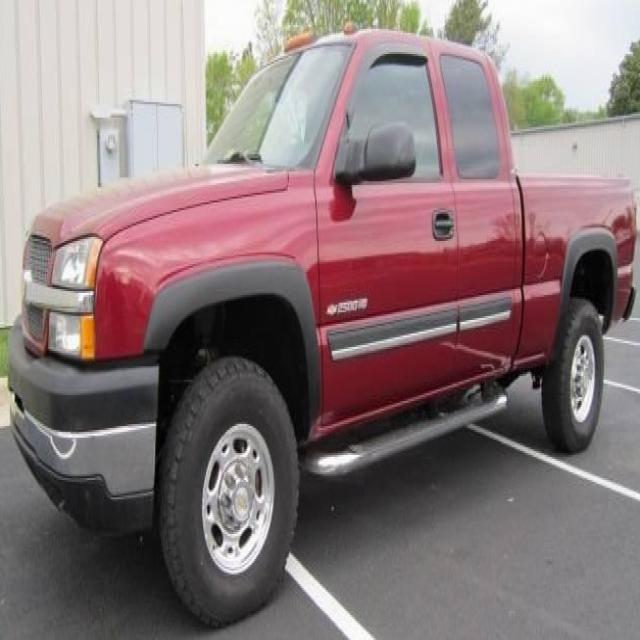CMT: (10, 24, 634, 624)
